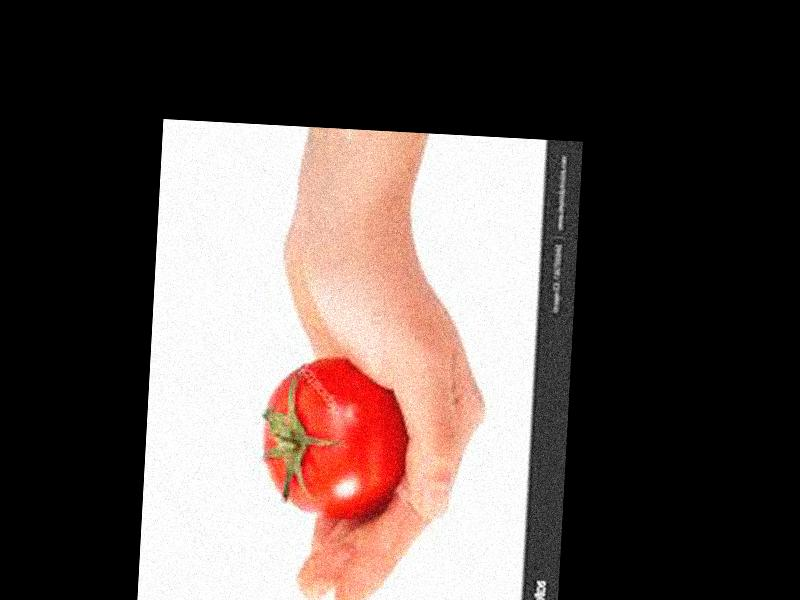Tomato: (260, 352, 409, 517)
